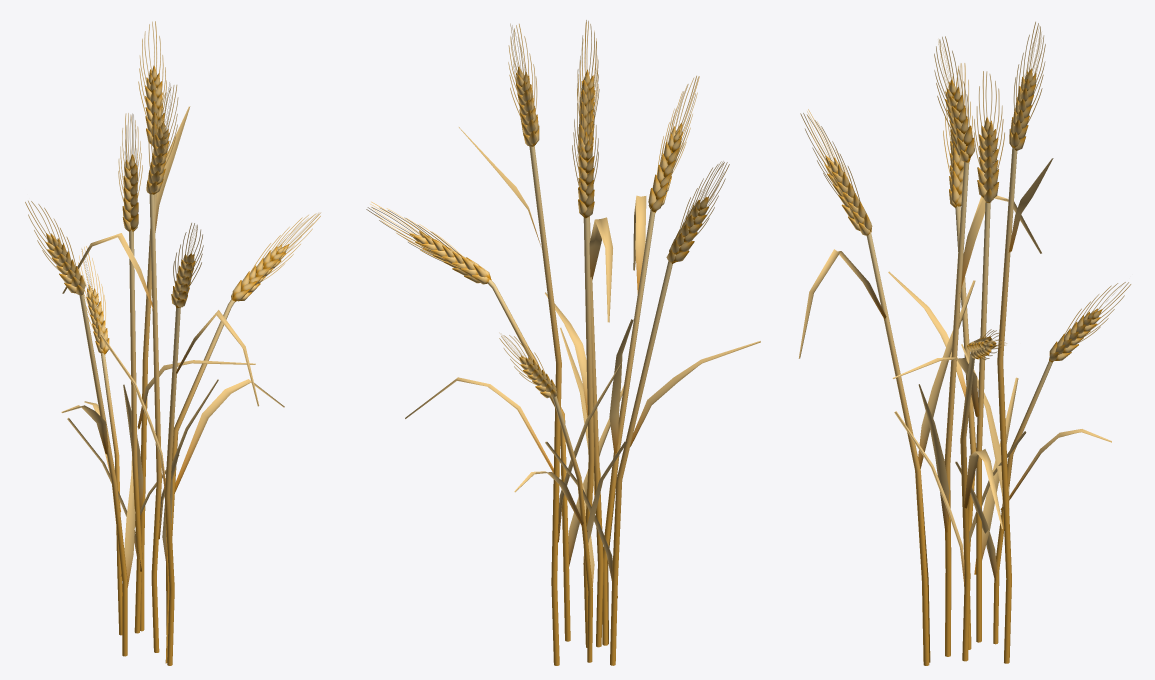
File: wheat_anime_ghibli_style.glb
3 views of the same model, side by side, from view 1: azimuth 30°, elevation 25°; view 2: azimuth 150°, elevation 25°; view 3: azimuth 270°, elevation 25° (orthographic). The views are drawn at different scales.
Visible parts, largest first — view 1: Wheat; view 2: Wheat; view 3: Wheat.
Boxes of the visible parts, box(x1,y1,x2,y2) form: Wheat: box(25, 21, 320, 665); Wheat: box(366, 20, 760, 665); Wheat: box(798, 21, 1131, 665).
Size of the model in its own units: 0.5355 by 0.9331 by 0.447.
Materials: 1 (1 with a texture image).
